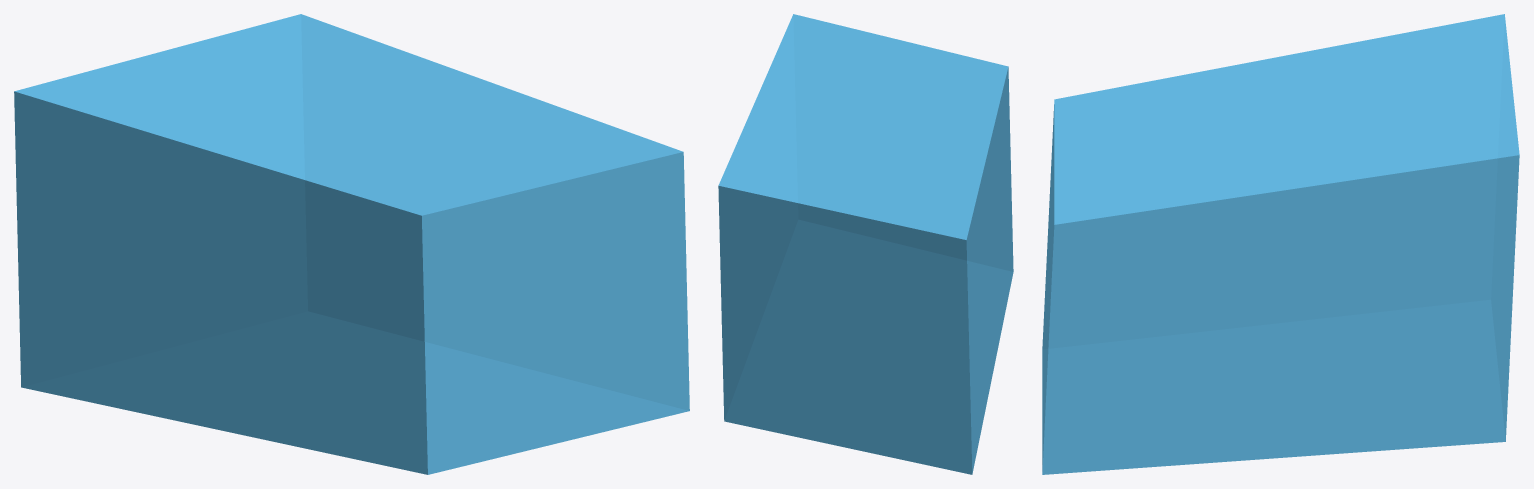
File: Event_421364160_HBrechit_13.fbx
3 views of the same model, side by side, from view 1: azimuth 30°, elevation 25°; view 2: azimuth 150°, elevation 25°; view 3: azimuth 270°, elevation 25° (orthographic). The views are drawn at different scales.
Parts seen in each view (by area): view 1: Model; view 2: Model; view 3: Model.
Part boxes in pixels (x1=…): Model: x1=14, y1=14, x2=689, y2=474; Model: x1=718, y1=14, x2=1013, y2=474; Model: x1=1042, y1=14, x2=1519, y2=474.
Size of the model in its own units: 0.7258 by 0.4603 by 0.6942.
